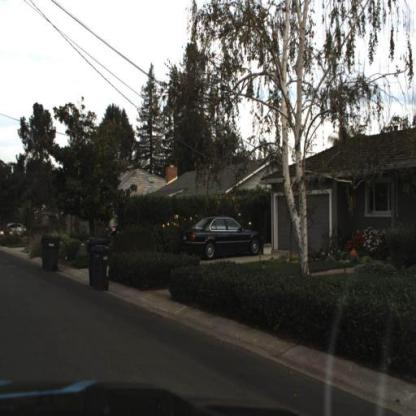car: (183, 217, 264, 259)
